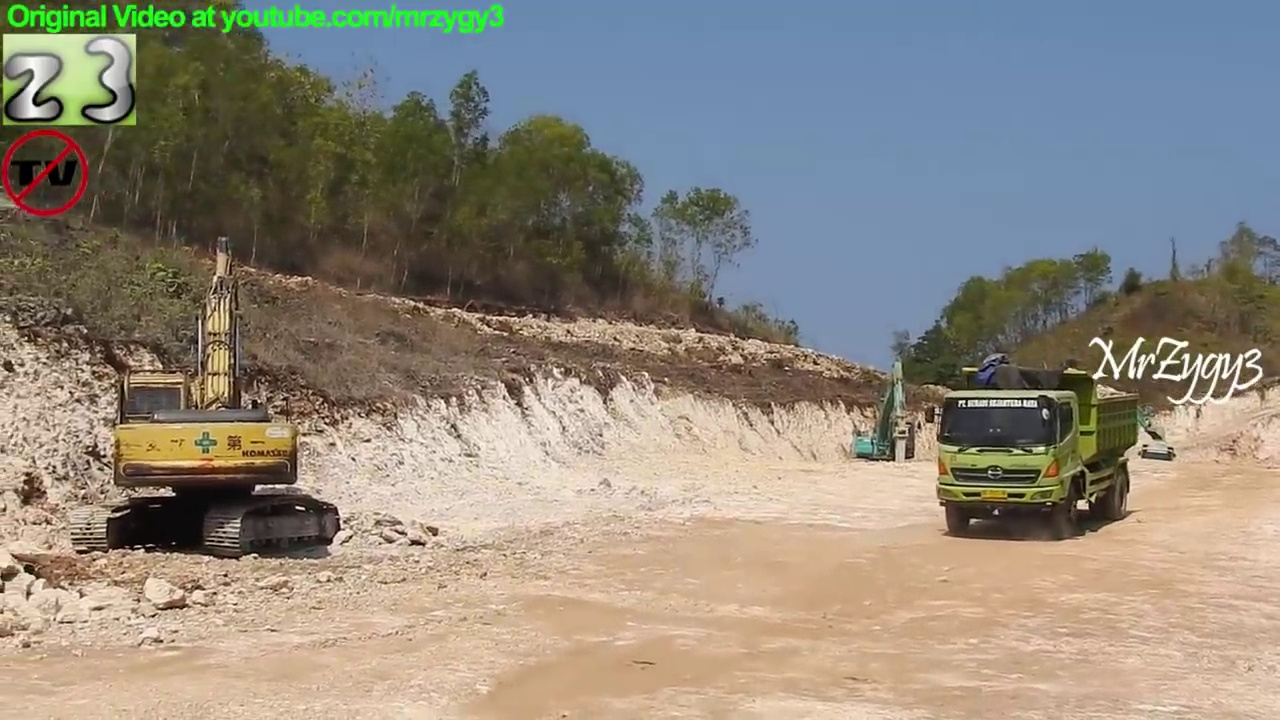excavator: (846, 357, 924, 482), (1079, 399, 1168, 469)
excavator breaker: (61, 230, 347, 562)
truck: (919, 361, 1146, 541), (1136, 440, 1179, 488)
